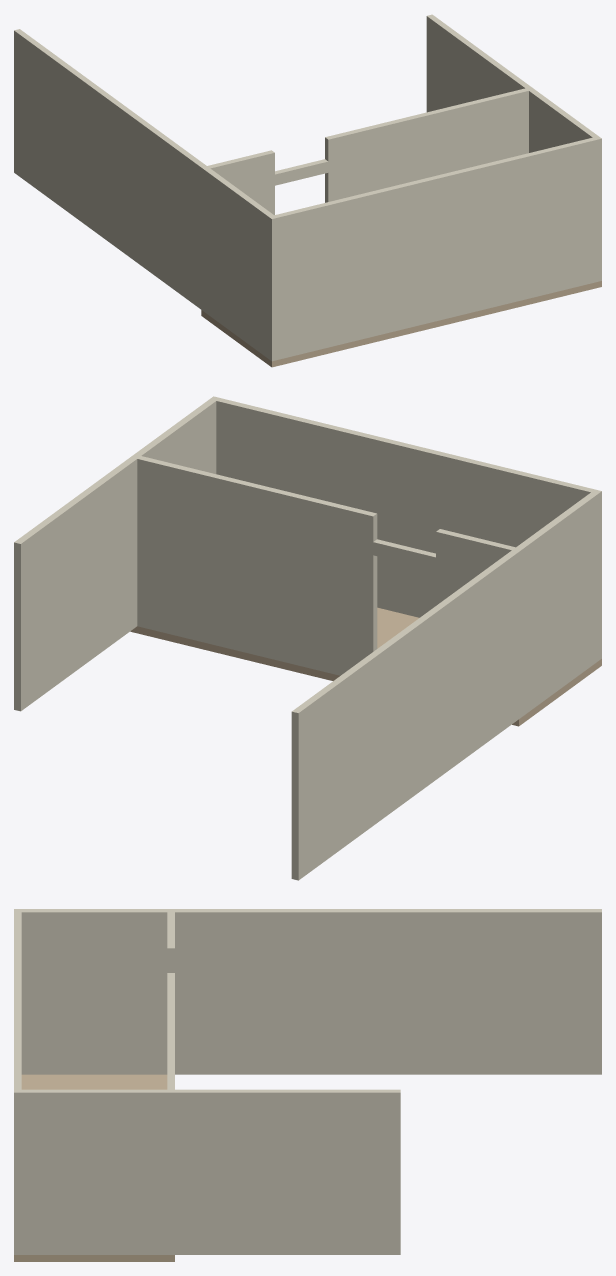
The picture shows the model from 3 angles, top to bottom: view 1: azimuth 30°, elevation 25°; view 2: azimuth 150°, elevation 25°; view 3: azimuth 270°, elevation 25°; orthographic projection. The views are drawn at different scales.
Visible parts, largest first — view 1: CORRIDORN_8, WW_1, WS2_4, CORRIDORW_9, WE2_2, GROUND_0, WS1_3, CORRIDORE_10, ENTRY-lintel_7; view 2: WS2_4, WW_1, CORRIDORN_8, WE2_2, CORRIDORW_9, WS1_3, CORRIDORE_10, GROUND_0, ENTRY-lintel_7; view 3: WW_1, WE2_2, CORRIDORE_10, CORRIDORW_9, GROUND_0, CORRIDORN_8, WS2_4, WS1_3.
Part boxes in pixels (box(x1,y1,x2,y2)): CORRIDORN_8: box(268, 136, 601, 361); WW_1: box(14, 29, 209, 311); WS2_4: box(325, 88, 528, 202); CORRIDORW_9: box(204, 168, 273, 358); WE2_2: box(426, 14, 534, 112); GROUND_0: box(201, 281, 601, 367); WS1_3: box(201, 150, 274, 310); CORRIDORE_10: box(529, 89, 598, 152); ENTRY-lintel_7: box(275, 159, 328, 185); WS2_4: box(135, 455, 377, 675); WW_1: box(291, 547, 522, 880); CORRIDORN_8: box(210, 396, 601, 660); WE2_2: box(14, 454, 140, 711); CORRIDORW_9: box(516, 492, 598, 715); WS1_3: box(436, 529, 522, 718); CORRIDORE_10: box(135, 399, 216, 473); GROUND_0: box(130, 607, 601, 726); ENTRY-lintel_7: box(373, 539, 435, 570); WW_1: box(167, 909, 601, 1074); WE2_2: box(167, 1089, 400, 1254); CORRIDORE_10: box(20, 1089, 167, 1254); CORRIDORW_9: box(20, 909, 167, 1074); GROUND_0: box(14, 1074, 174, 1261); CORRIDORN_8: box(14, 909, 21, 1254); WS2_4: box(167, 978, 174, 1254); WS1_3: box(167, 909, 174, 972).
Size of the model in its own units: 6.8 by 2.92 by 9.2.
